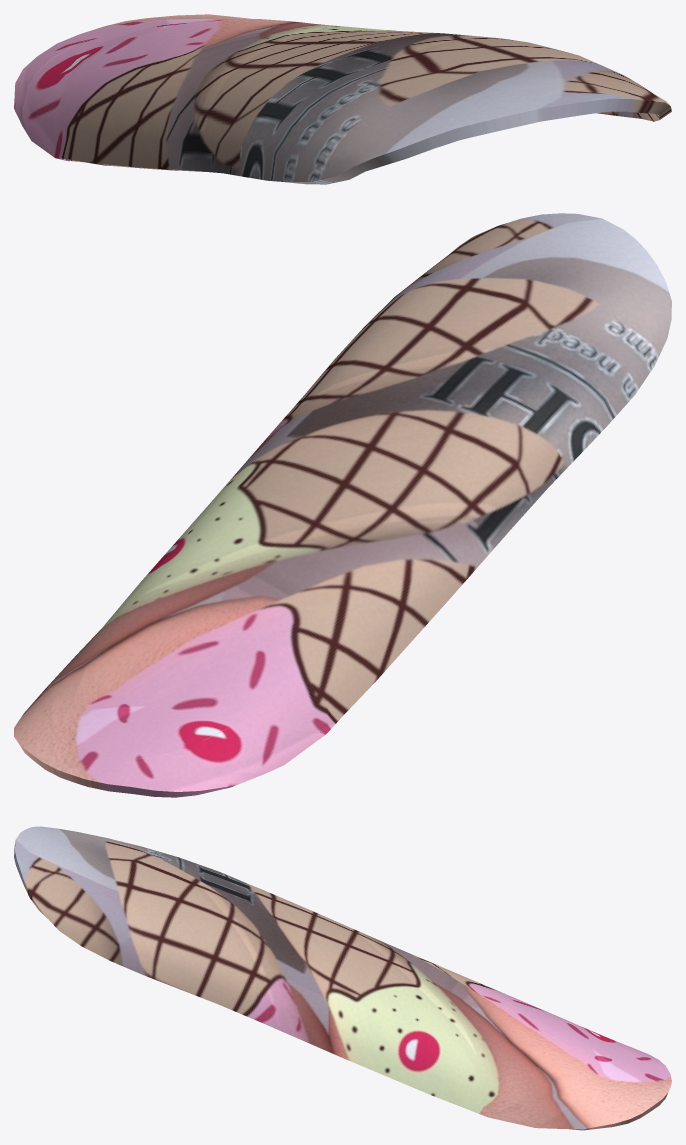
3 views of the same model, one above another, from view 1: azimuth 30°, elevation 25°; view 2: azimuth 150°, elevation 25°; view 3: azimuth 270°, elevation 25° (orthographic). The views are drawn at different scales.
Visible parts, largest first — view 1: OBJ_14, OBJ_20, OBJ_17, OBJ_19, OBJ_18; view 2: OBJ_14, OBJ_17, OBJ_20, OBJ_19, OBJ_18, OBJ_22, OBJ_21; view 3: OBJ_14, OBJ_22, OBJ_21, OBJ_19, OBJ_17, OBJ_18.
Part boxes in pixels (bbox=[...]): OBJ_14: bbox=[53, 19, 671, 184]; OBJ_20: bbox=[22, 37, 94, 161]; OBJ_17: bbox=[14, 16, 233, 124]; OBJ_19: bbox=[70, 19, 289, 75]; OBJ_18: bbox=[71, 18, 241, 63]; OBJ_14: bbox=[77, 213, 671, 733]; OBJ_17: bbox=[54, 713, 260, 797]; OBJ_20: bbox=[129, 720, 326, 775]; OBJ_19: bbox=[70, 670, 244, 748]; OBJ_18: bbox=[67, 705, 193, 760]; OBJ_22: bbox=[14, 687, 73, 781]; OBJ_21: bbox=[47, 654, 84, 735]; OBJ_14: bbox=[14, 826, 589, 1117]; OBJ_22: bbox=[536, 1086, 670, 1130]; OBJ_21: bbox=[488, 1078, 632, 1127]; OBJ_19: bbox=[562, 1025, 616, 1085]; OBJ_17: bbox=[609, 1046, 671, 1092]; OBJ_18: bbox=[599, 1040, 645, 1087].
Bounding box in the file's own units: 159 × 133 × 364.
